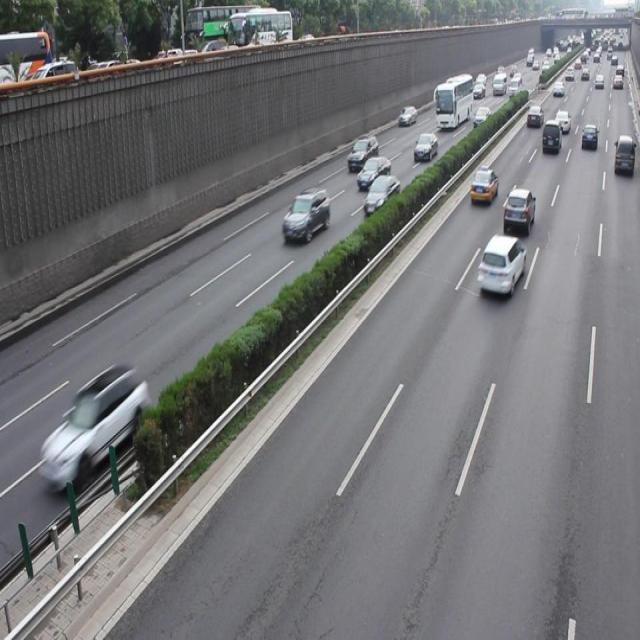car: (36, 363, 152, 494), (476, 234, 525, 296), (281, 185, 330, 242), (501, 186, 534, 236), (363, 174, 399, 216), (347, 133, 378, 174), (356, 155, 390, 190), (469, 166, 497, 204)
